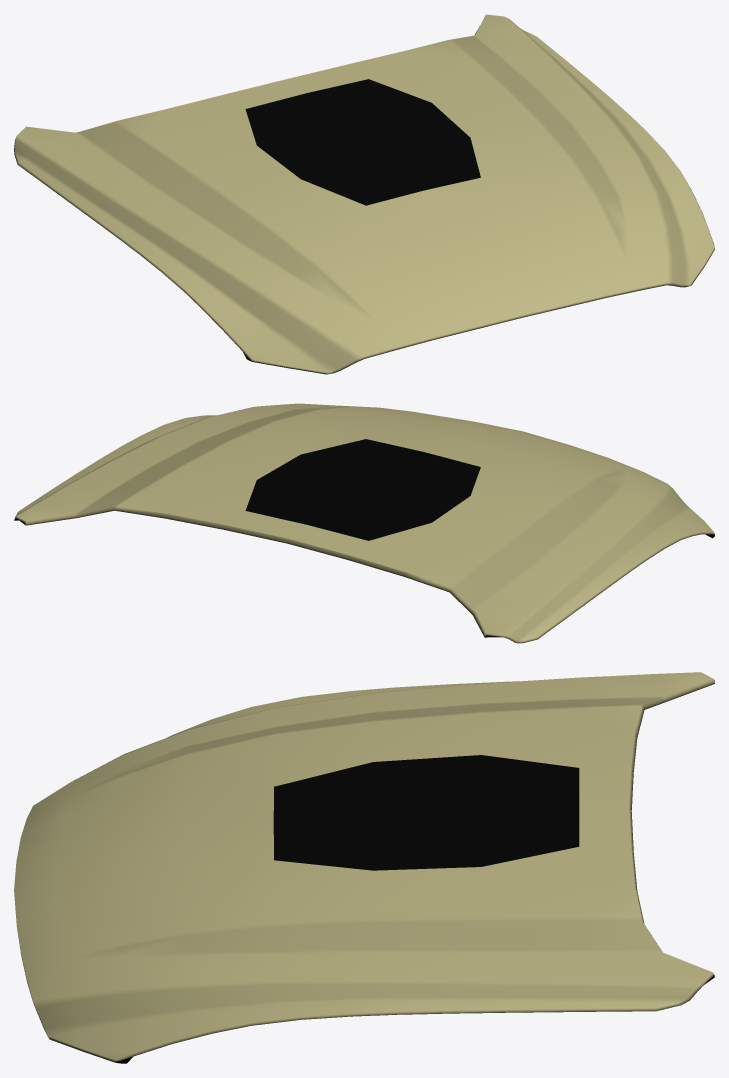
The model's file is Mustang16_Hood_05_Duco.fbx.
3 views of the same model, one above another, from view 1: azimuth 30°, elevation 25°; view 2: azimuth 150°, elevation 25°; view 3: azimuth 270°, elevation 25° (orthographic). The views are drawn at different scales.
Parts seen in each view (by area): view 1: Mustang16_Hood_05_Duco; view 2: Mustang16_Hood_05_Duco; view 3: Mustang16_Hood_05_Duco.
Boxes of the visible parts, x1,y1,x2,y2 form: Mustang16_Hood_05_Duco: [14, 14, 714, 374]; Mustang16_Hood_05_Duco: [14, 403, 714, 643]; Mustang16_Hood_05_Duco: [14, 672, 714, 1063].
Size of the model in its own units: 168 by 27.48 by 149.
